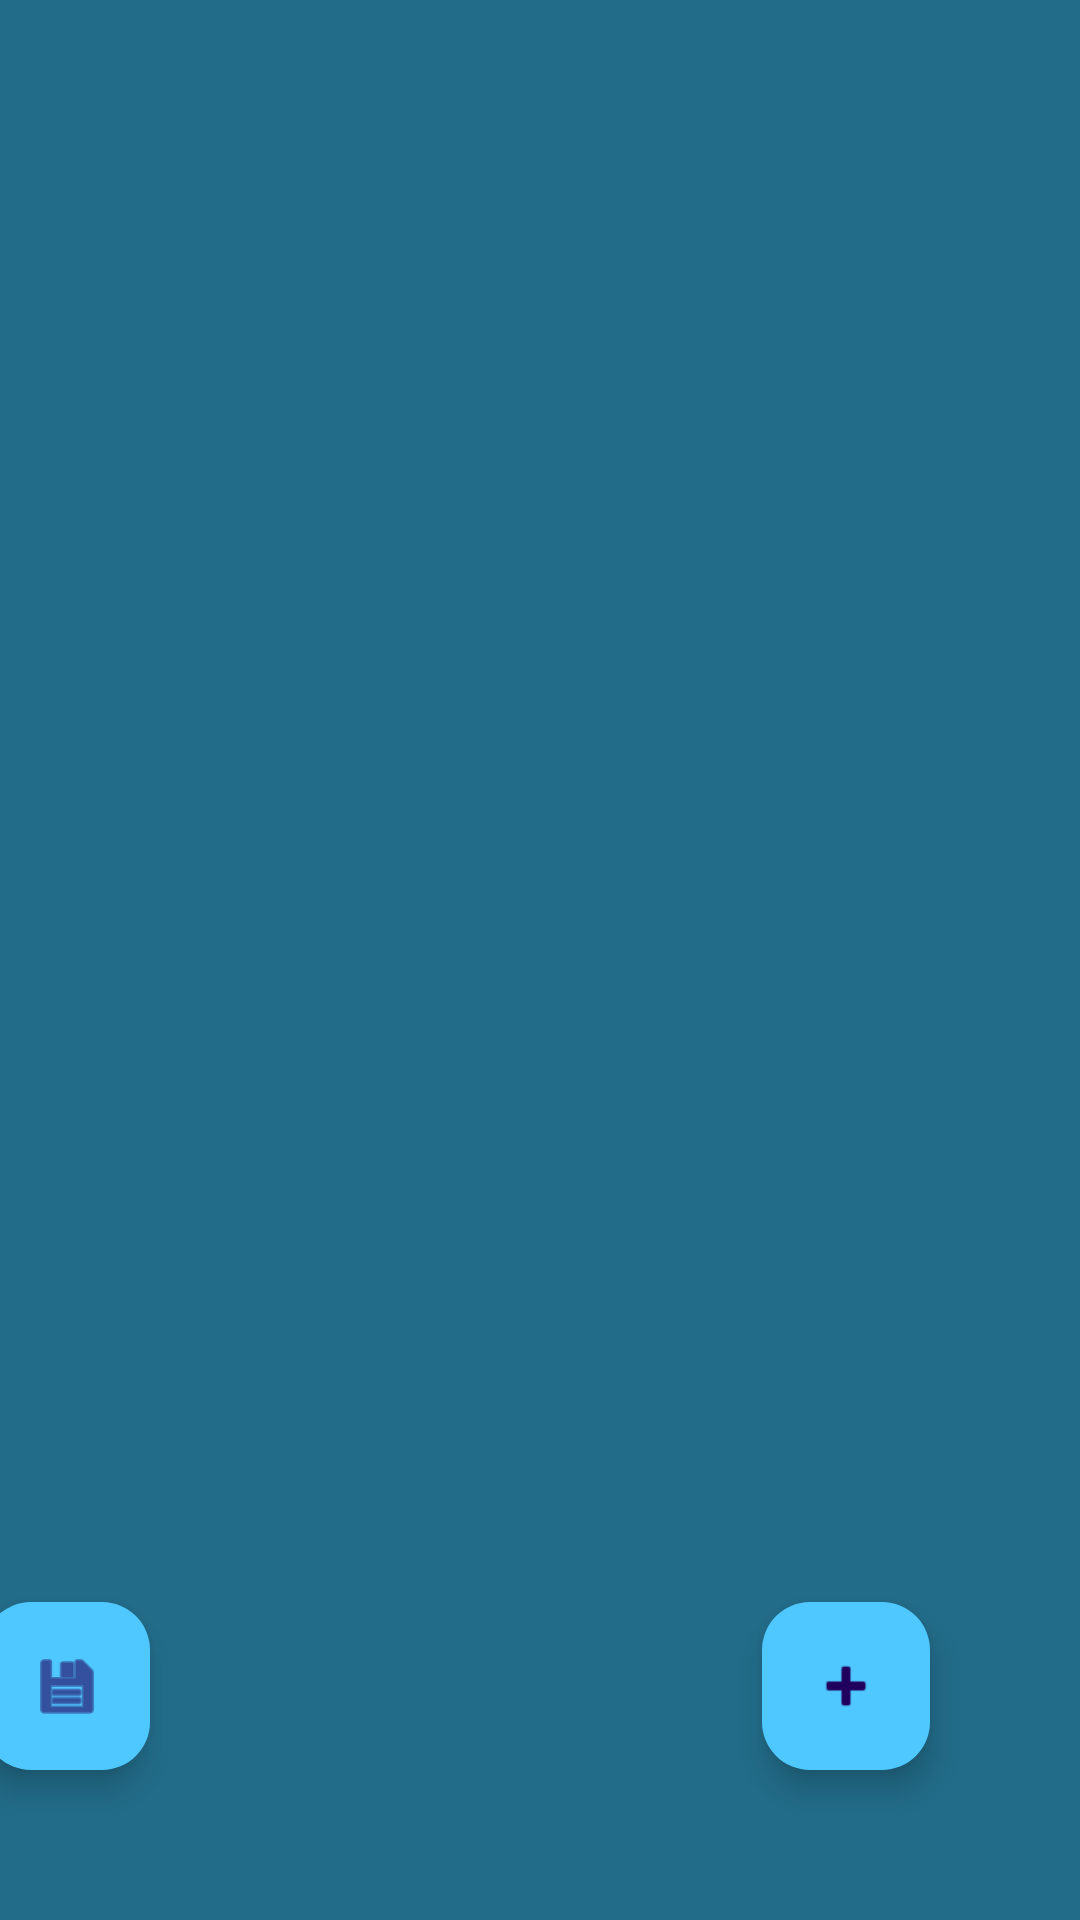

Icons on this 1080px x 1920px Android screen, each with the point to tap as point (x, y):
add: point (846, 1686)
